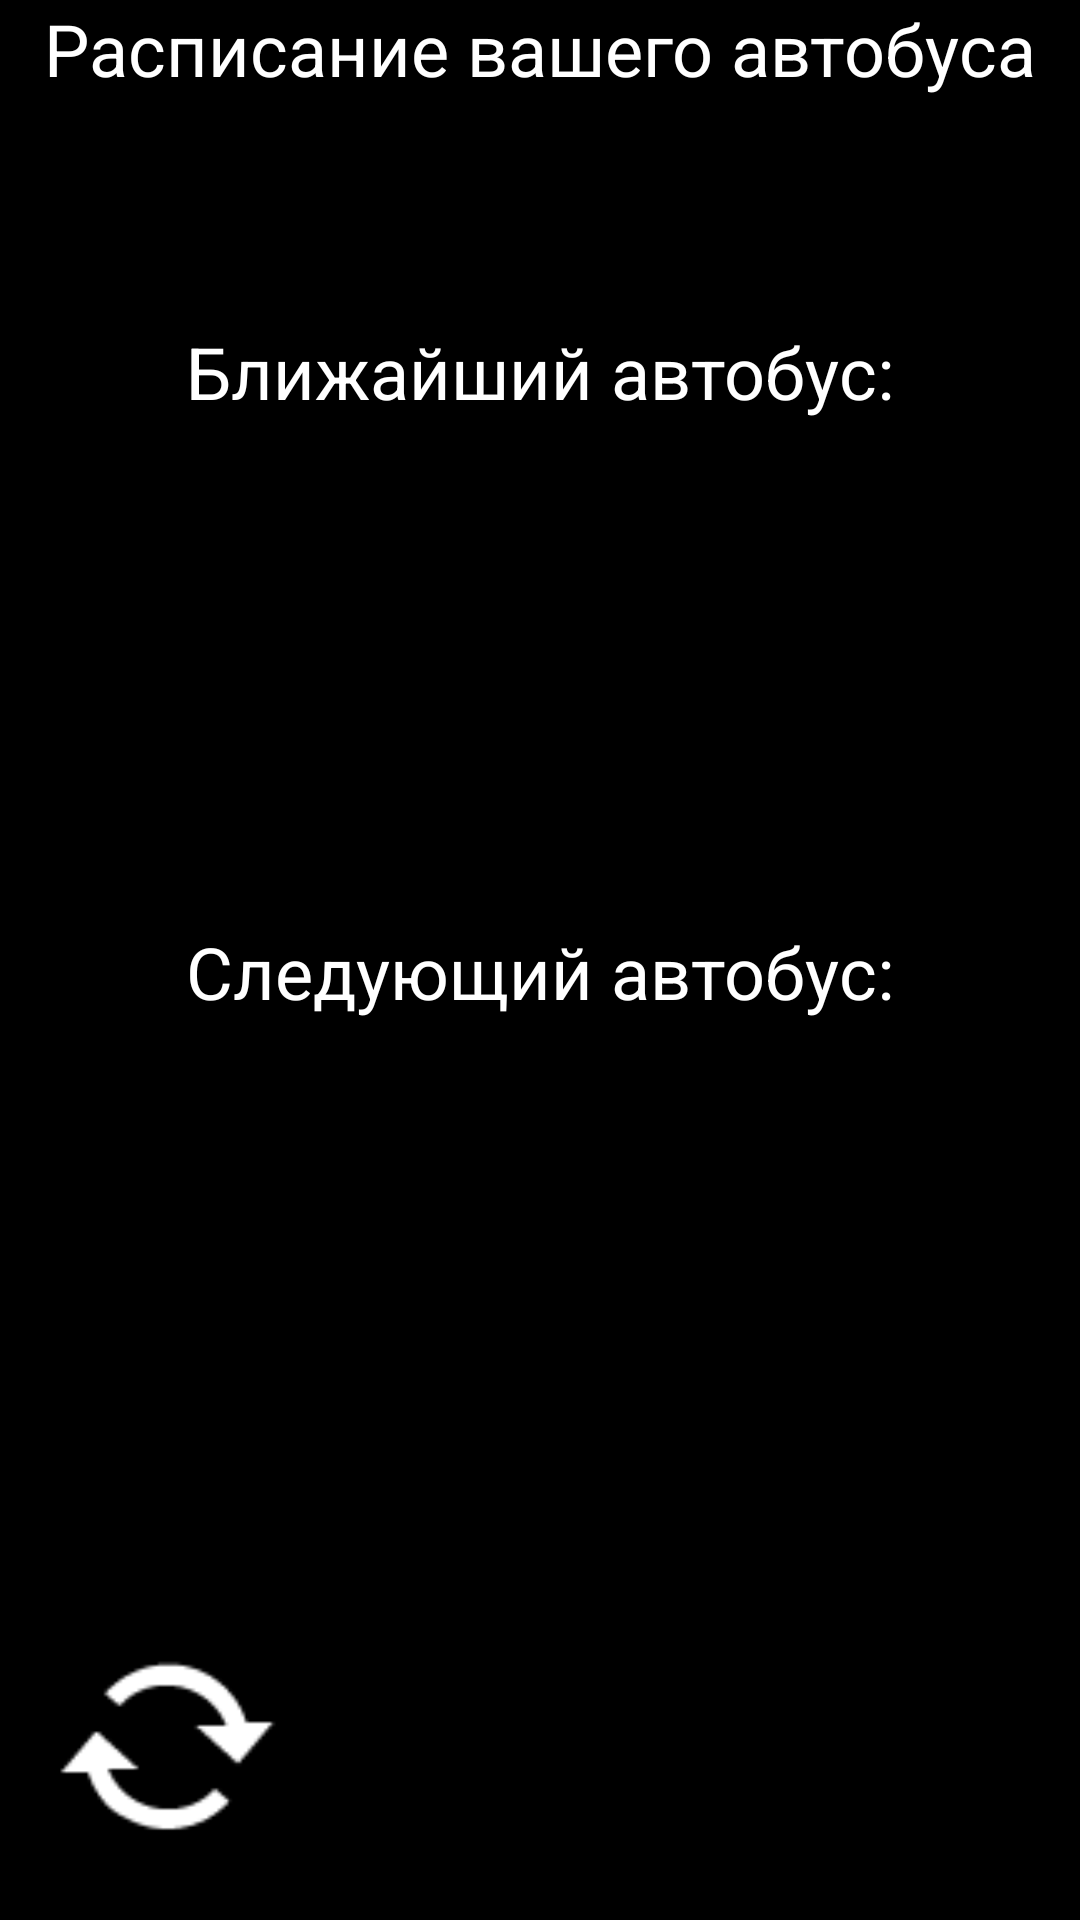

Icon click points for this 1080*1920 phone screenshot, format point (x, y):
sync: point (167, 1746)
